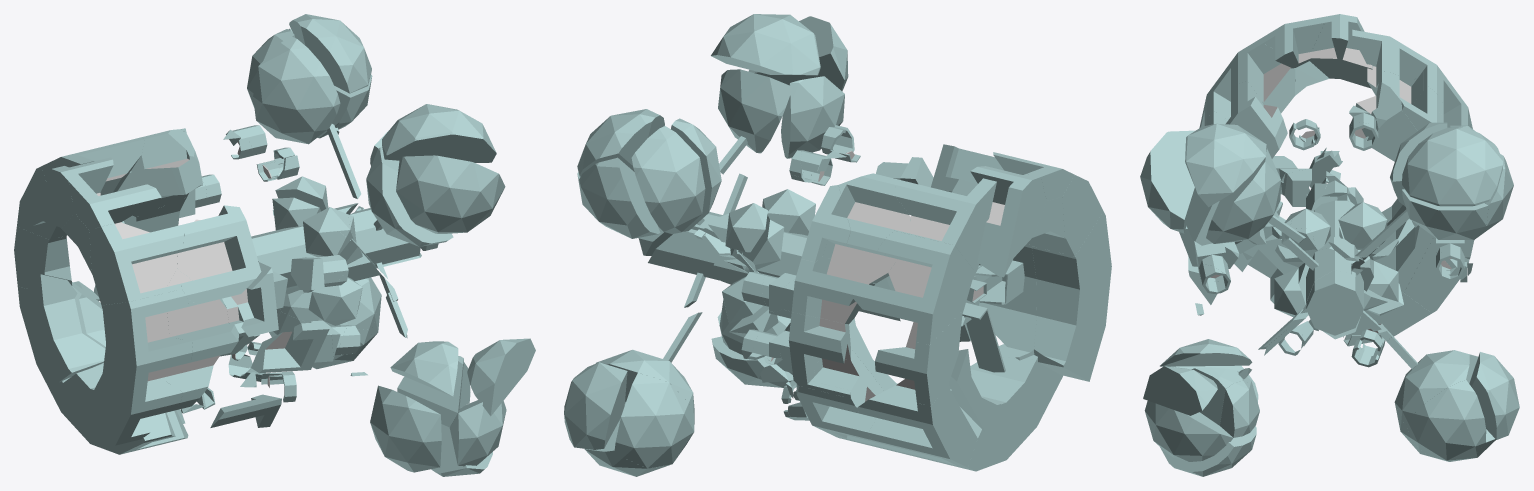
File: TransportShip-Shatter.fbx
3 renders of one model, left to right at view 1: azimuth 30°, elevation 25°; view 2: azimuth 150°, elevation 25°; view 3: azimuth 270°, elevation 25°, orthographic. The views are drawn at different scales.
Visible parts, largest first — view 1: Carrier_cell.032, Carrier_cell.050, Carrier_cell, Carrier_cell.080, Carrier_cell.081, Carrier_cell.015, Carrier_cell.009, Carrier_cell.020, Carrier_cell.044, Carrier_cell.028, Carrier_cell.039, Carrier_cell.086 (+28 smaller); view 2: Carrier_cell.032, Carrier_cell.036, Carrier_cell.039, Carrier_cell.092, Carrier_cell.086, Carrier_cell.056, Carrier_cell.069, Carrier_cell.046, Carrier_cell.020, Carrier_cell.089, Carrier_cell.120, Carrier_cell.038 (+34 smaller); view 3: Carrier_cell.019, Carrier_cell.020, Carrier_cell.052, Carrier_cell.120, Carrier_cell, Carrier_cell.080, Carrier_cell.077, Carrier_cell.054, Carrier_cell.086, Carrier_cell.089, Carrier_cell.055, Carrier_cell.026 (+34 smaller).
Part boxes in pixels (left/top/right/bottom): Carrier_cell.032: left=90, top=289, right=192, bottom=445; Carrier_cell.050: left=253, top=36, right=340, bottom=144; Carrier_cell: left=396, top=155, right=505, bottom=233; Carrier_cell.080: left=89, top=223, right=183, bottom=305; Carrier_cell.081: left=177, top=205, right=261, bottom=304; Carrier_cell.015: left=161, top=268, right=238, bottom=410; Carrier_cell.009: left=251, top=197, right=352, bottom=287; Carrier_cell.020: left=382, top=104, right=496, bottom=162; Carrier_cell.044: left=370, top=385, right=441, bottom=472; Carrier_cell.028: left=30, top=274, right=105, bottom=382; Carrier_cell.039: left=53, top=364, right=188, bottom=454; Carrier_cell.086: left=117, top=129, right=202, bottom=216; Carrier_cell.032: left=1031, top=211, right=1111, bottom=381; Carrier_cell.036: left=853, top=231, right=975, bottom=344; Carrier_cell.039: left=896, top=357, right=1062, bottom=471; Carrier_cell.092: left=857, top=378, right=977, bottom=467; Carrier_cell.086: left=823, top=173, right=910, bottom=283; Carrier_cell.056: left=631, top=126, right=705, bottom=233; Carrier_cell.069: left=614, top=373, right=691, bottom=468; Carrier_cell.046: left=894, top=178, right=996, bottom=272; Carrier_cell.020: left=711, top=14, right=820, bottom=75; Carrier_cell.089: left=970, top=166, right=1046, bottom=277; Carrier_cell.120: left=718, top=69, right=792, bottom=174; Carrier_cell.038: left=796, top=348, right=884, bottom=442; Carrier_cell.019: left=1402, top=127, right=1502, bottom=206; Carrier_cell.020: left=1185, top=123, right=1266, bottom=207; Carrier_cell.052: left=1406, top=379, right=1486, bottom=461; Carrier_cell.120: left=1206, top=148, right=1305, bottom=243; Carrier_cell: left=1140, top=130, right=1195, bottom=233; Carrier_cell.080: left=1210, top=37, right=1295, bottom=119; Carrier_cell.077: left=1144, top=401, right=1232, bottom=461; Carrier_cell.054: left=1386, top=337, right=1469, bottom=424; Carrier_cell.086: left=1352, top=71, right=1443, bottom=161; Carrier_cell.089: left=1310, top=14, right=1372, bottom=88; Carrier_cell.055: left=1306, top=269, right=1363, bottom=335; Carrier_cell.026: left=1469, top=352, right=1519, bottom=439.
Bounding box in the file's own units: 1525 × 1298 × 1317.
